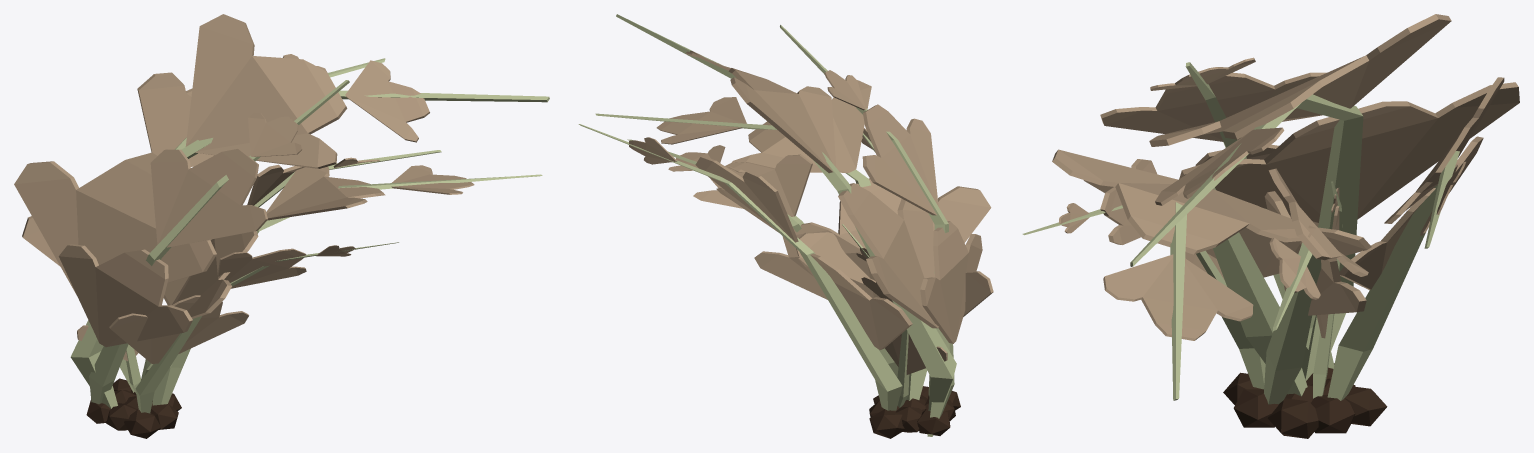
File: Carrot_Dry_7.fbx
The picture shows the model from 3 angles, left to right: view 1: azimuth 30°, elevation 25°; view 2: azimuth 150°, elevation 25°; view 3: azimuth 270°, elevation 25°; orthographic projection. The views are drawn at different scales.
Parts seen in each view (by area): view 1: 7_Dry_Carrot; view 2: 7_Dry_Carrot; view 3: 7_Dry_Carrot.
Boxes of the visible parts, x1,y1,x2,y2 form: 7_Dry_Carrot: [14, 14, 549, 438]; 7_Dry_Carrot: [578, 14, 993, 438]; 7_Dry_Carrot: [1022, 14, 1519, 438].
Bounding box in the file's own units: 46.11 × 36.03 × 32.46.
